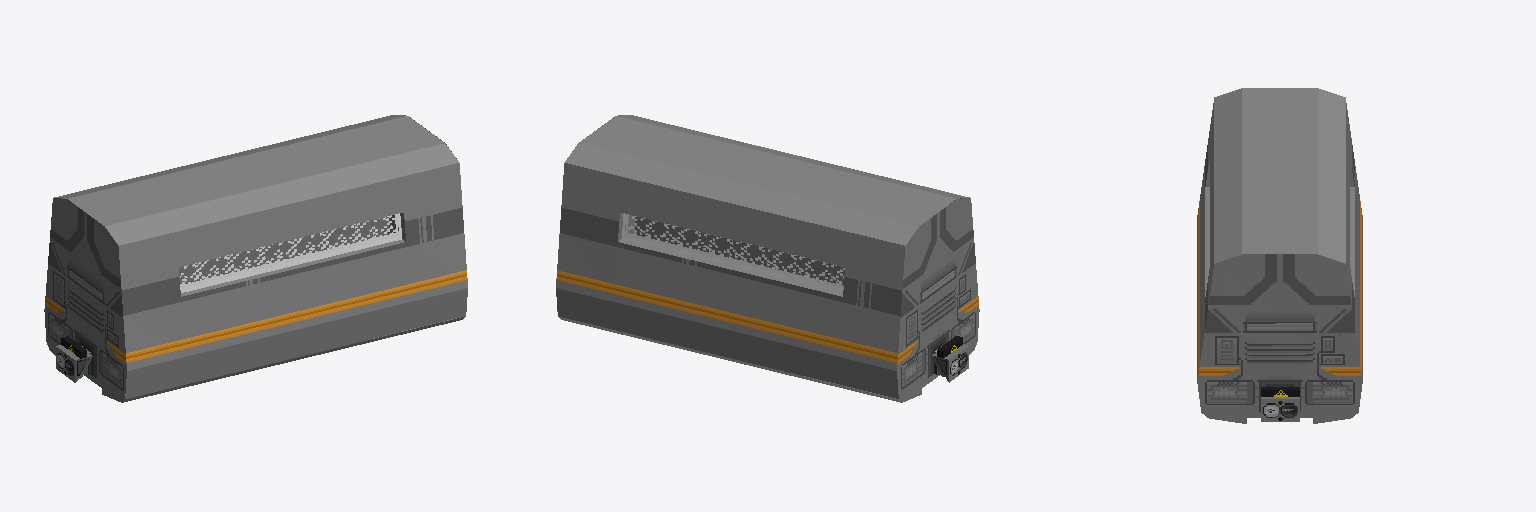
3 views of the same model, side by side, from view 1: azimuth 30°, elevation 25°; view 2: azimuth 150°, elevation 25°; view 3: azimuth 270°, elevation 25° (orthographic).
Parts seen in each view (by area): view 1: CAB, FRAME; view 2: CAB, FRAME; view 3: CAB, FRAME.
Part boxes in pixels (x1,y1,x2,y2): CAB: (44, 115, 467, 398); FRAME: (47, 316, 465, 402); CAB: (556, 115, 979, 398); FRAME: (558, 316, 976, 402); CAB: (1197, 88, 1362, 421); FRAME: (1201, 412, 1358, 423).
Size of the model in its own units: 6.71 by 2.86 by 2.52.
3 materials, 3 textured.